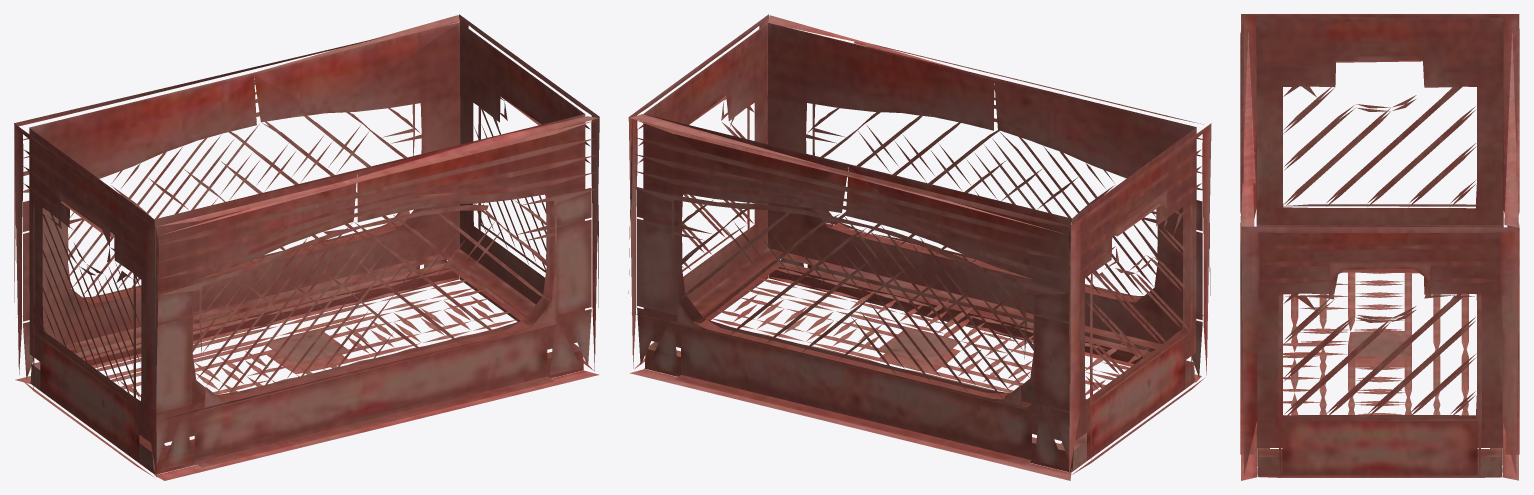
File: plastic_crate_03.glb
3 renders of one model, left to right at view 1: azimuth 30°, elevation 25°; view 2: azimuth 150°, elevation 25°; view 3: azimuth 270°, elevation 25°, orthographic.
Visible parts, largest first — view 1: plastic_crate_03; view 2: plastic_crate_03; view 3: plastic_crate_03.
Boxes of the visible parts, box(x1,y1,x2,y2) form: plastic_crate_03: box(14, 14, 599, 480); plastic_crate_03: box(628, 14, 1211, 480); plastic_crate_03: box(1240, 14, 1519, 480).
Size of the model in its own units: 0.4811 by 0.2661 by 0.265.
1 material, 1 textured.
